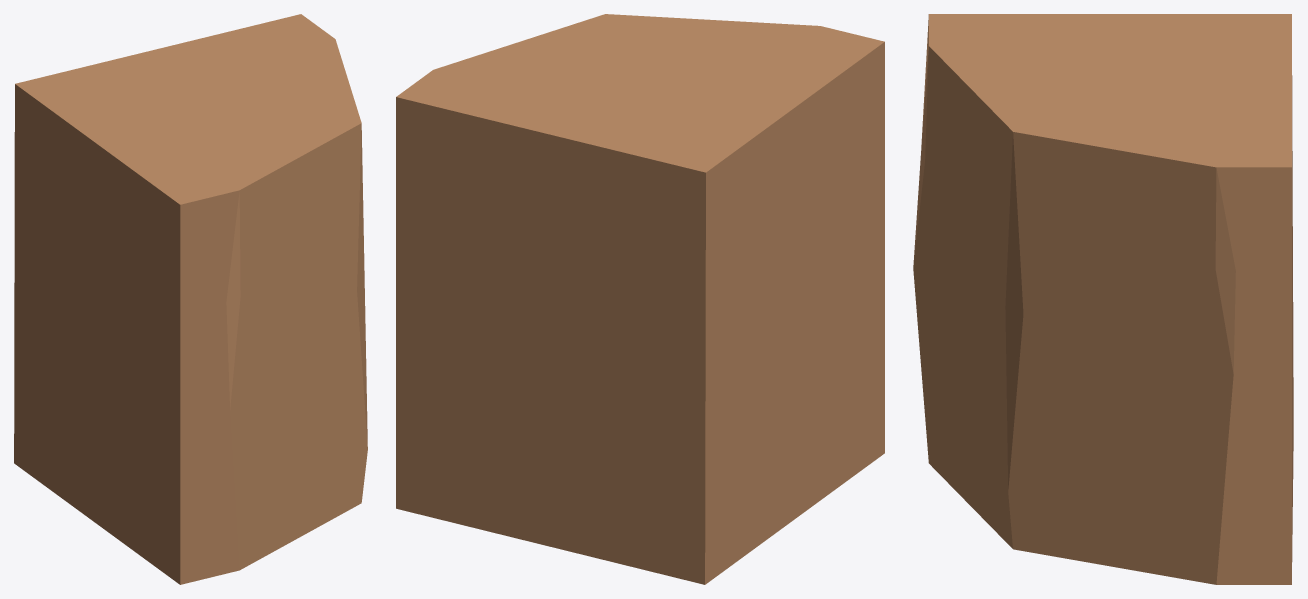
Rendered from Edge_corner_part.fbx.
3 views of the same model, side by side, from view 1: azimuth 30°, elevation 25°; view 2: azimuth 150°, elevation 25°; view 3: azimuth 270°, elevation 25° (orthographic). The views are drawn at different scales.
Parts seen in each view (by area): view 1: Cube.138; view 2: Cube.138; view 3: Cube.138.
Boxes of the visible parts, left/top/right/bottom form: Cube.138: left=14, top=14, right=367, bottom=584; Cube.138: left=396, top=14, right=884, bottom=584; Cube.138: left=913, top=14, right=1293, bottom=584.
Bounding box in the file's own units: 0.8186 × 0.8258 × 1.
